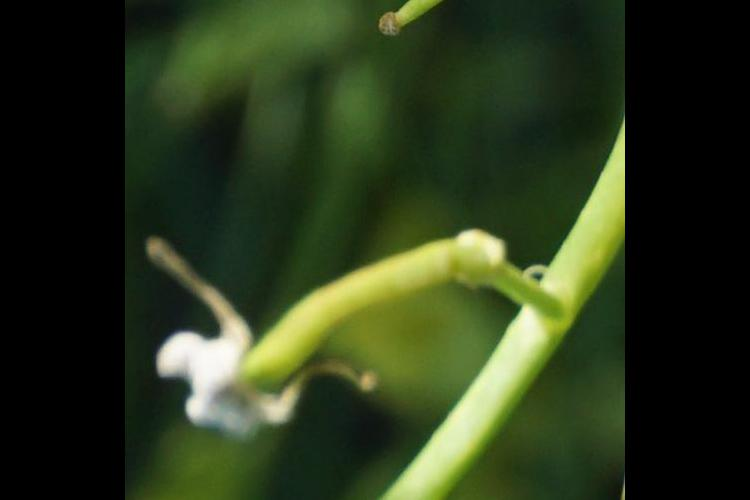white: (181, 270, 322, 450)
